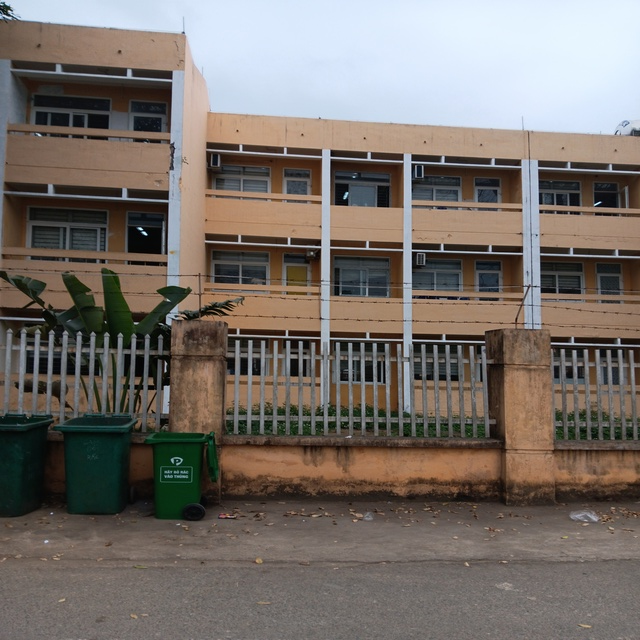thungrac: (59, 415, 134, 519), (150, 432, 217, 523), (2, 410, 48, 519)
